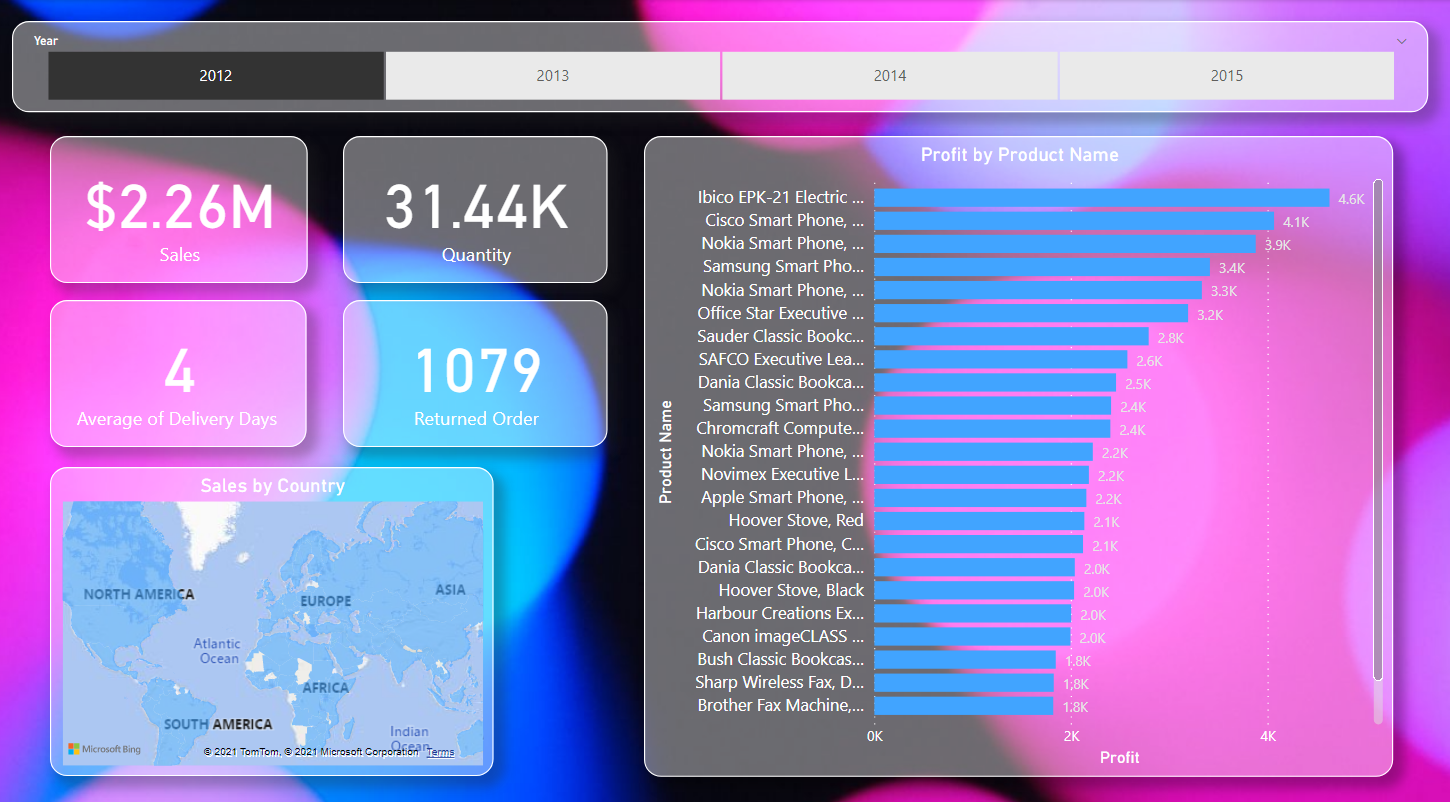

Layout of this report page (visuals, bound fields, positions):
{"tool":"powerbi","page":{"name":"Page 1","canvas":[1280,720],"ordinal":0},"visuals":[{"type":"card","fields":{"Values":["Sum(Orders.Sales)"]},"box":[44,119.2,226.5,129.3],"z":0},{"type":"card","fields":{"Values":["Sum(Orders.Quantity)"]},"box":[300.7,119.2,232,129.3],"z":1000},{"type":"card","fields":{"Values":["Avg(Orders.Delivery Days )"]},"box":[44,263.2,224.6,129.3],"z":2000},{"type":"slicer","fields":{"Values":["Orders.Year"]},"box":[10.1,18.3,1242.4,79.8],"z":3000},{"type":"card","fields":{"Values":["Sum(Returns.Returned Order)"]},"box":[300.7,263.2,232,129.3],"z":4000},{"type":"filledMap","fields":{"Category":["Orders.Country"]},"box":[44,409.9,388.8,271.4],"z":5000},{"type":"barChart","fields":{"Category":["Orders.Product Name"],"Y":["Sum(Orders.Profit)"]},"box":[564.8,119.2,657.4,562.1],"z":6000}]}

Visuals, with their boxes in screenshot pixels (x1, y1, x2, y2), scaled from the page's 1280x720 canvas onto the 1450x802 screenshot:
card - Sum(Orders.Sales): 50, 133, 306, 277
card - Sum(Orders.Quantity): 341, 133, 603, 277
card - Avg(Orders.Delivery Days ): 50, 293, 304, 437
slicer - Orders.Year: 11, 20, 1419, 109
card - Sum(Returns.Returned Order): 341, 293, 603, 437
filledMap - Orders.Country: 50, 457, 490, 759
barChart - Orders.Product Name x Sum(Orders.Profit): 640, 133, 1385, 759
